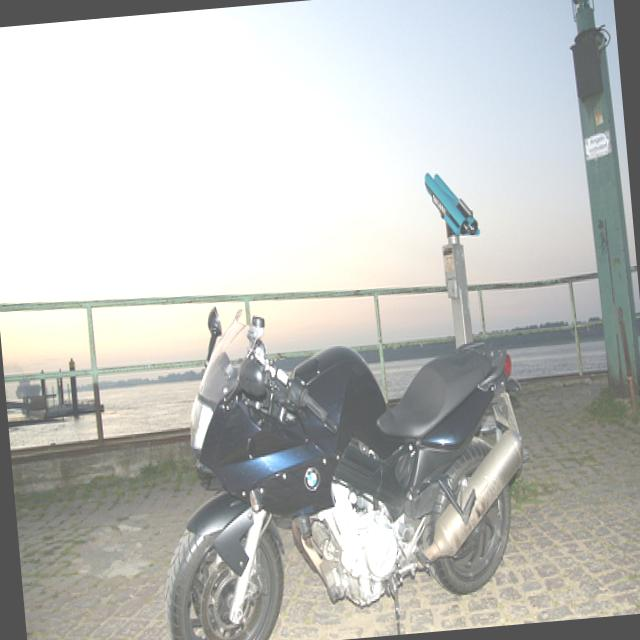Vehicle: (137, 265, 542, 640)
